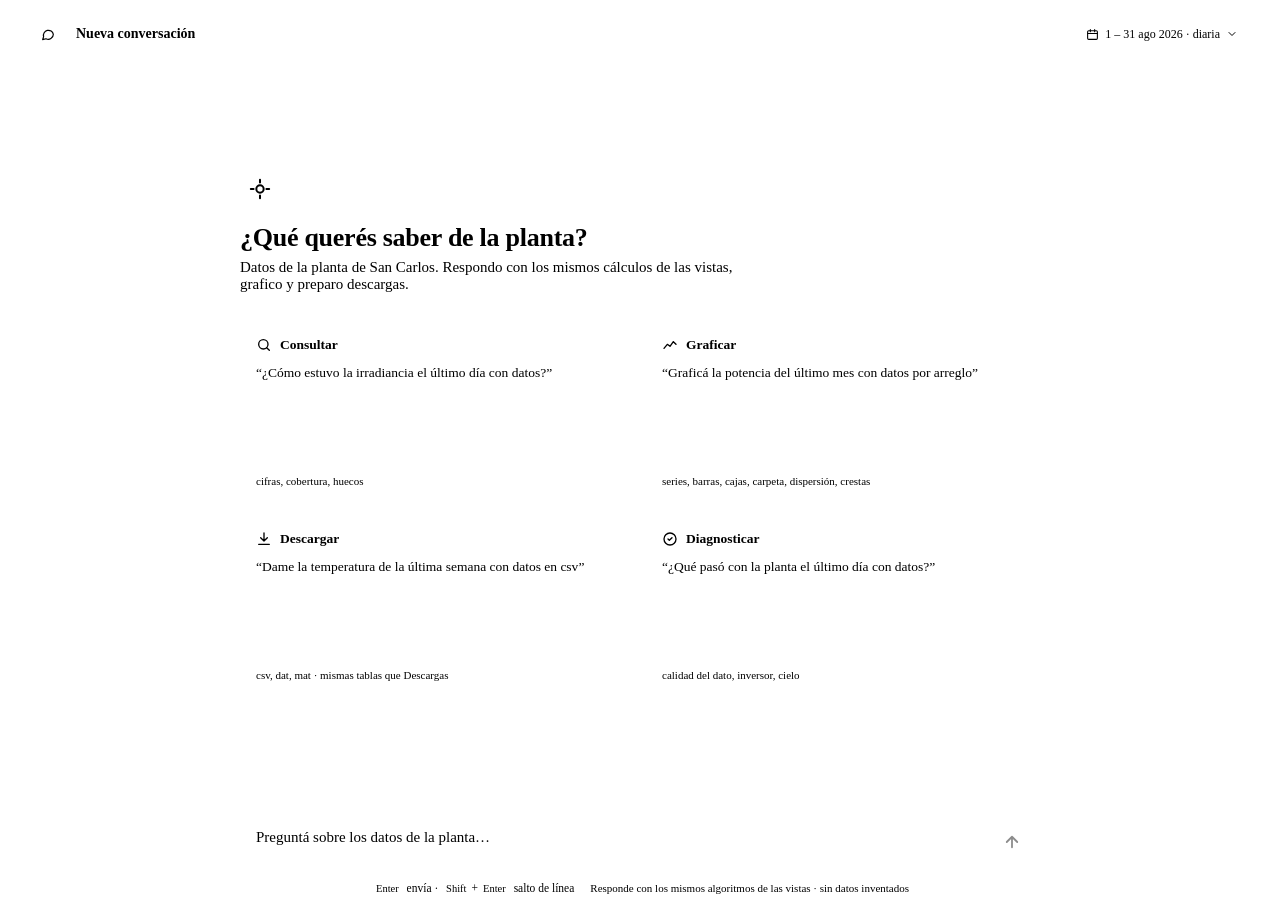
AssistantView › sin conversación muestra el estado vacío, y un ejemplo arranca la pregunta con el rango como contexto
Check: the heading "¿Qué querés saber de la planta?" is shown, box left=240, top=223, right=588, bottom=252
Check: the button "Dame la temperatura de la última semana con datos en csv" is shown, box left=256, top=557, right=618, bottom=577
Note: When se pulsa el ejemplo del gráfico
Click the button "Graficá la potencia del último mes con datos por arreglo": [843, 373] box left=662, top=363, right=1024, bottom=383
(page scrolled)
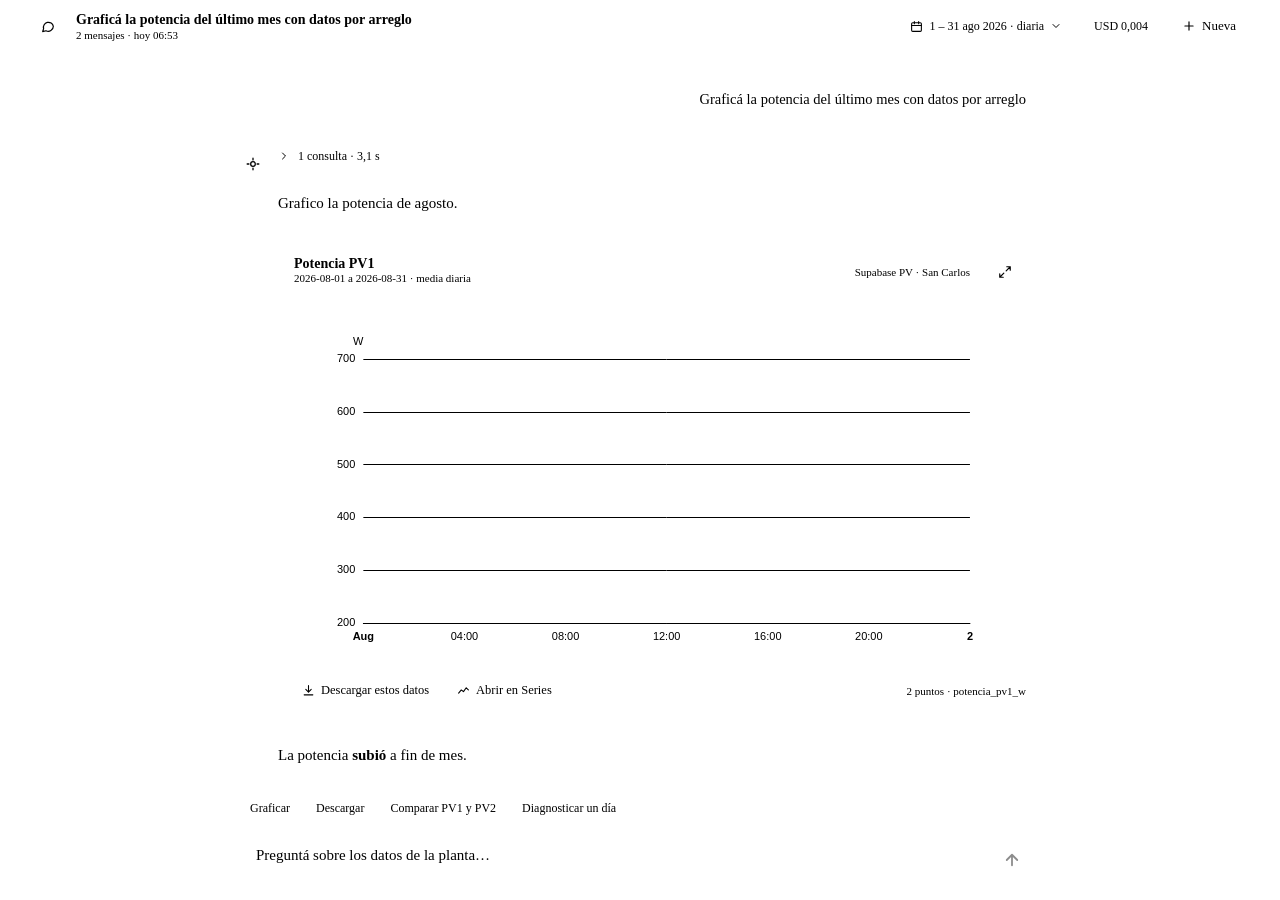
Check: the picture named "Potencia PV1" is shown, box left=326, top=310, right=992, bottom=650
Check: the text "subió" is shown, box left=352, top=747, right=386, bottom=763
